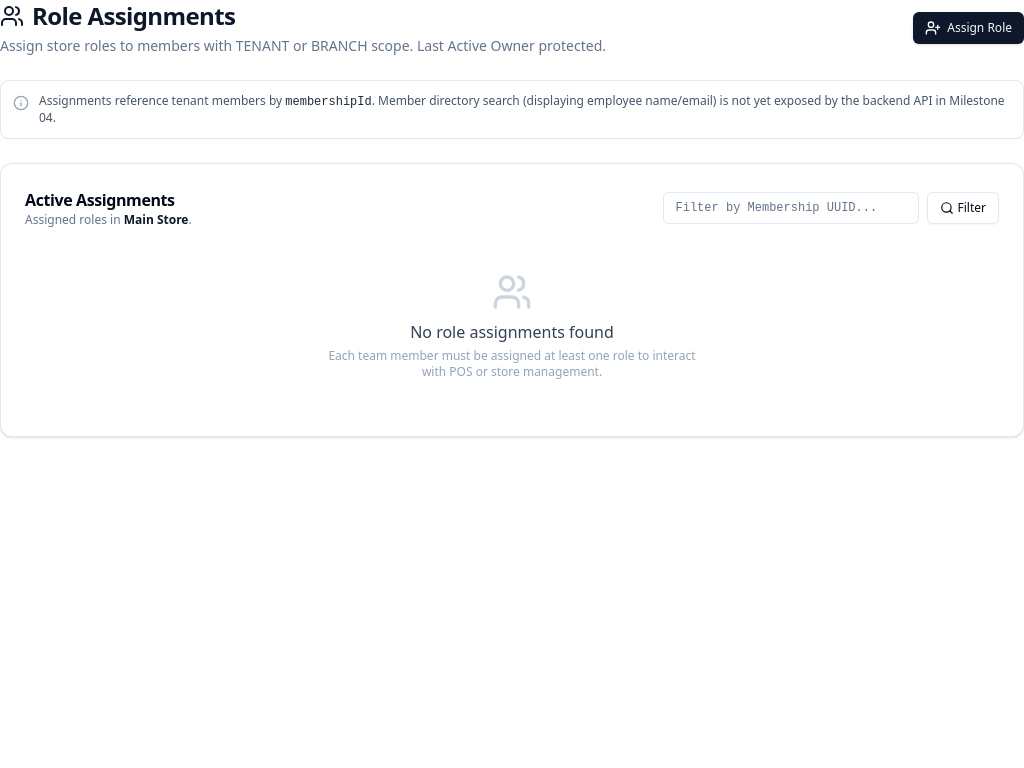
RoleAssignmentsPage Branch Scope & Owner Restrictions › clears branch selection when switching back to TENANT scope and locks OWNER to TENANT scope
Click the button "Assign Role" at (969, 28), box 913,12 -> 1023,44
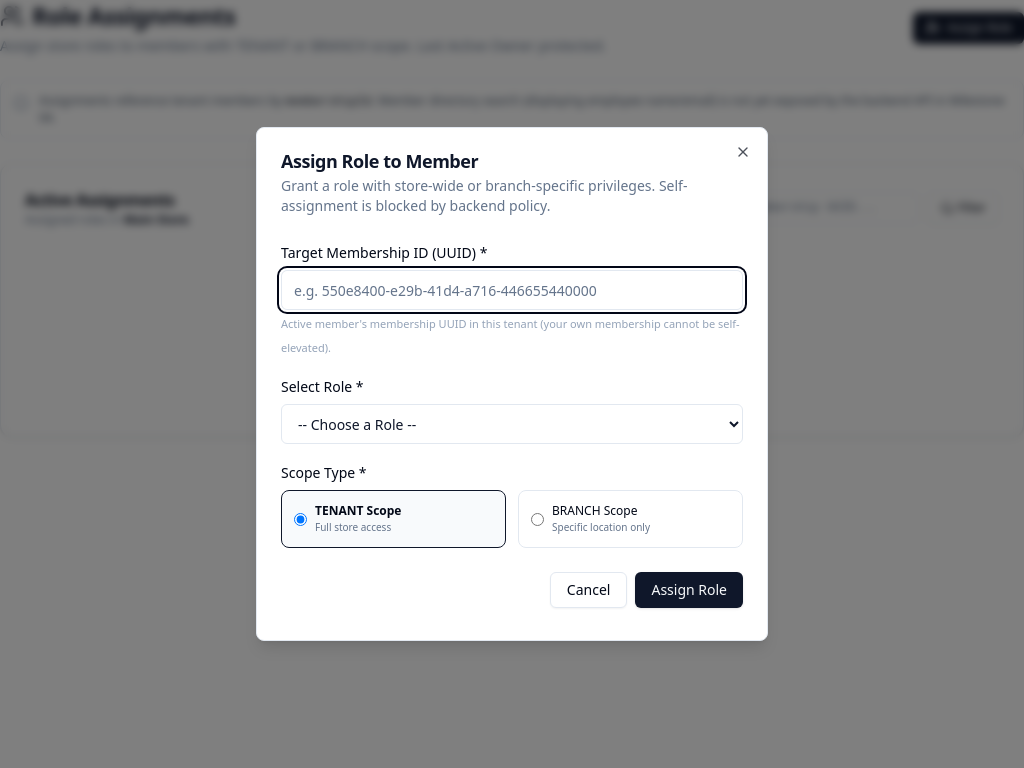
Select BRANCH scope and pick a branch
Click the radio button labelled "BRANCH Scope Specific location only" at (538, 519), box 531,512 -> 544,526
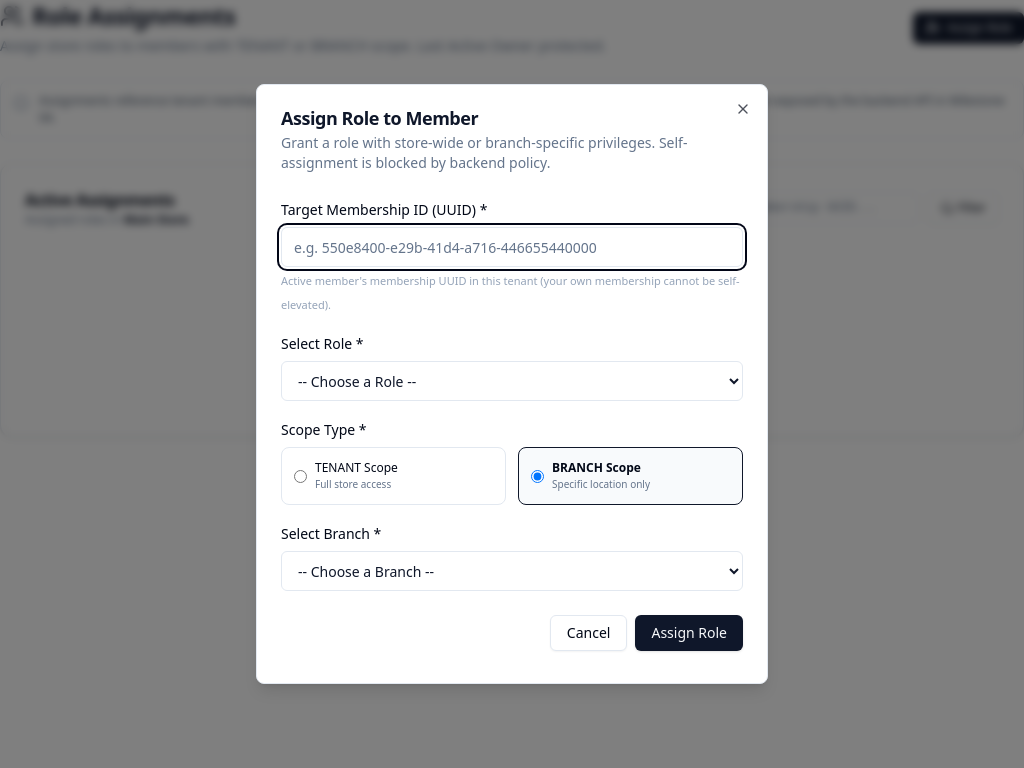
Select "Branch One (BR-01)" in the dropdown labelled "Select Branch *" at (512, 571), box 281,551 -> 743,591
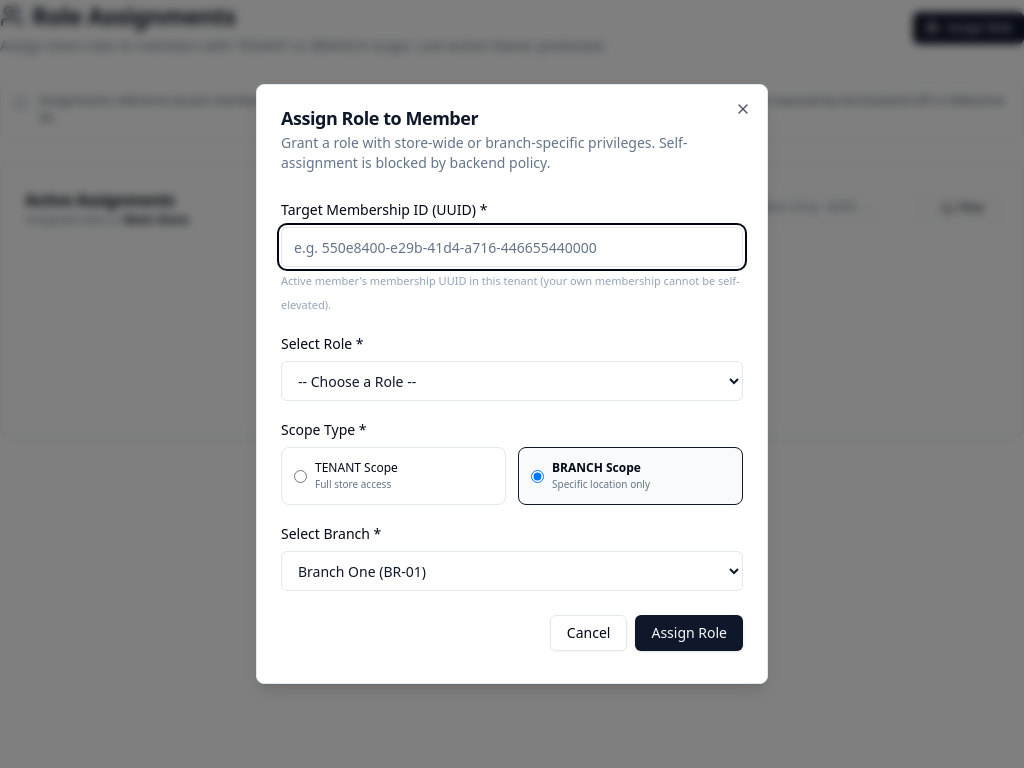
Click the radio button labelled "TENANT Scope Full store access" at (300, 476), box 294,470 -> 307,482
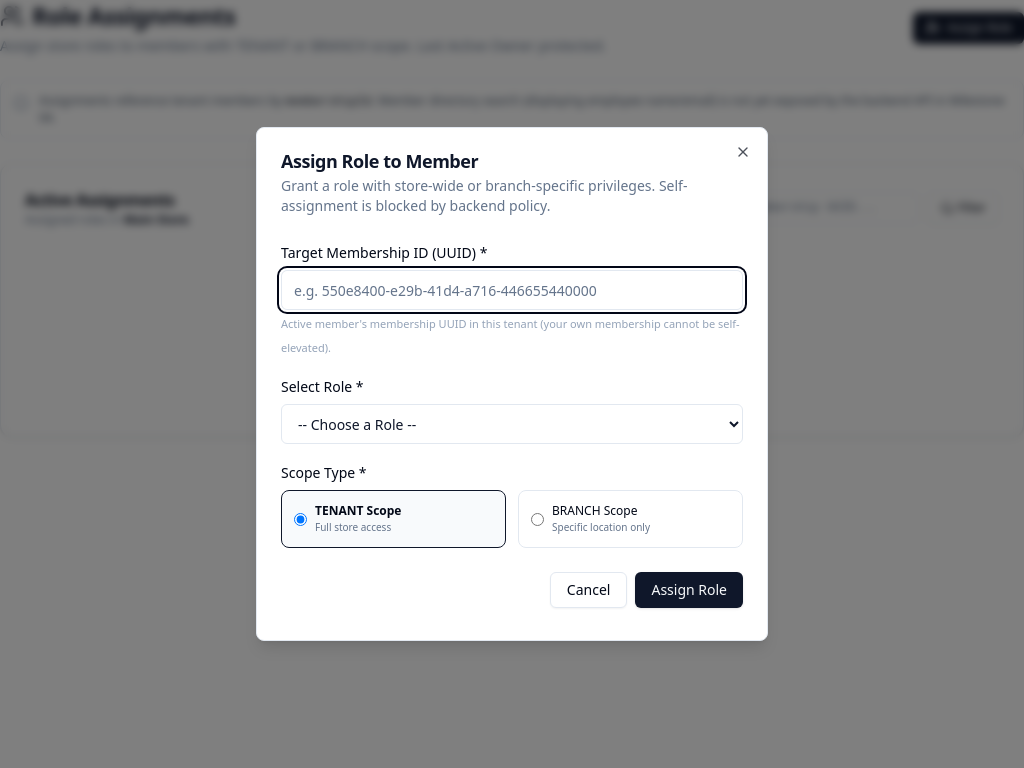
expect the label labelled "Select Branch" is gone: met
Click the radio button labelled "BRANCH Scope Specific location only" at (538, 519), box 531,512 -> 544,526
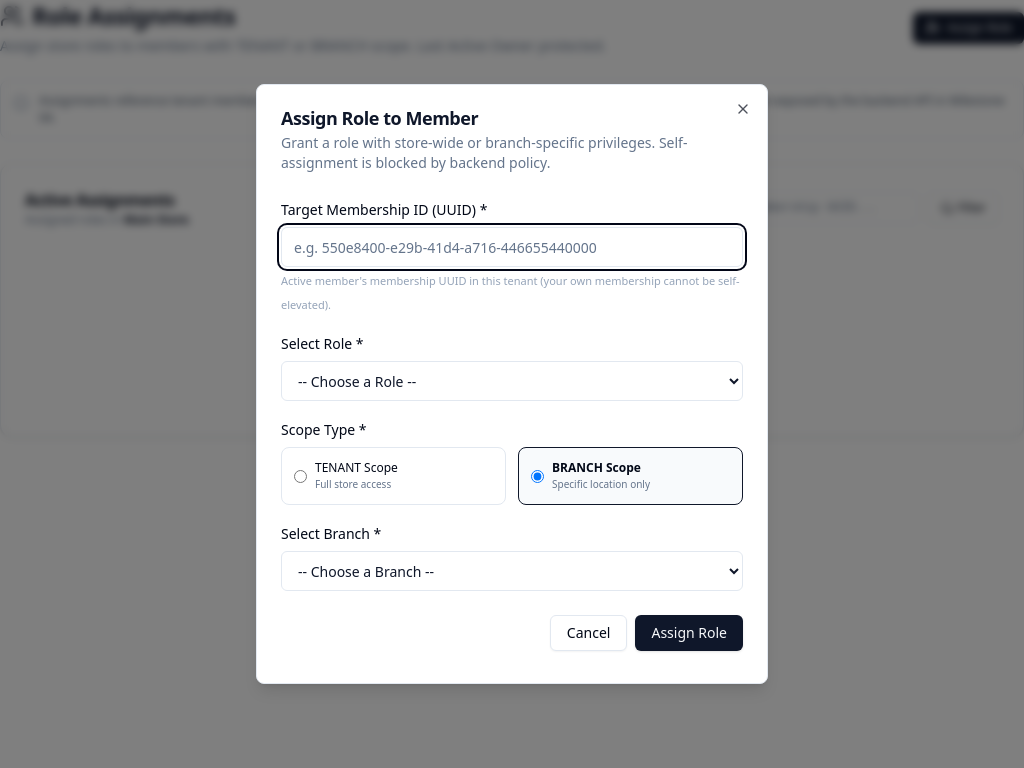
expect the dropdown labelled "Select Branch *" shows "-- Choose a Branch --": met, box 281,551 -> 743,591
Selecting OWNER forces TENANT scope and disables BRANCH radio
Select "Owner (OWNER) [SYSTEM]" in the dropdown labelled "Select Role *" at (512, 381), box 281,361 -> 743,401
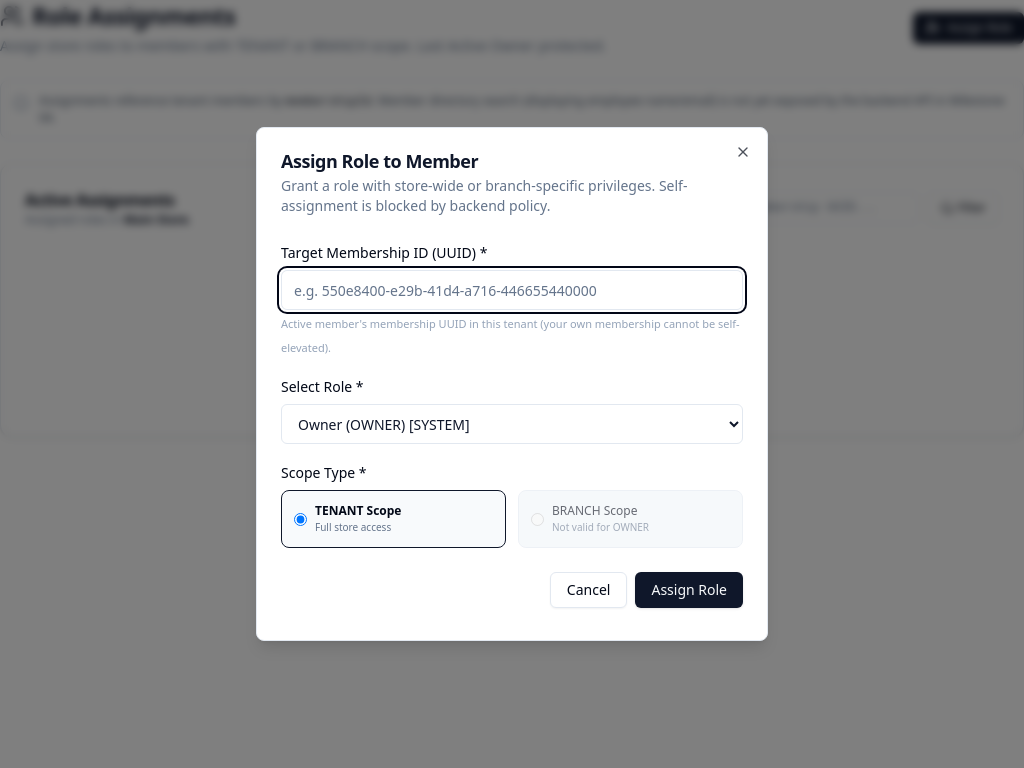
expect the radio button labelled "TENANT Scope Full store access" is checked: met, box 294,512 -> 307,526
